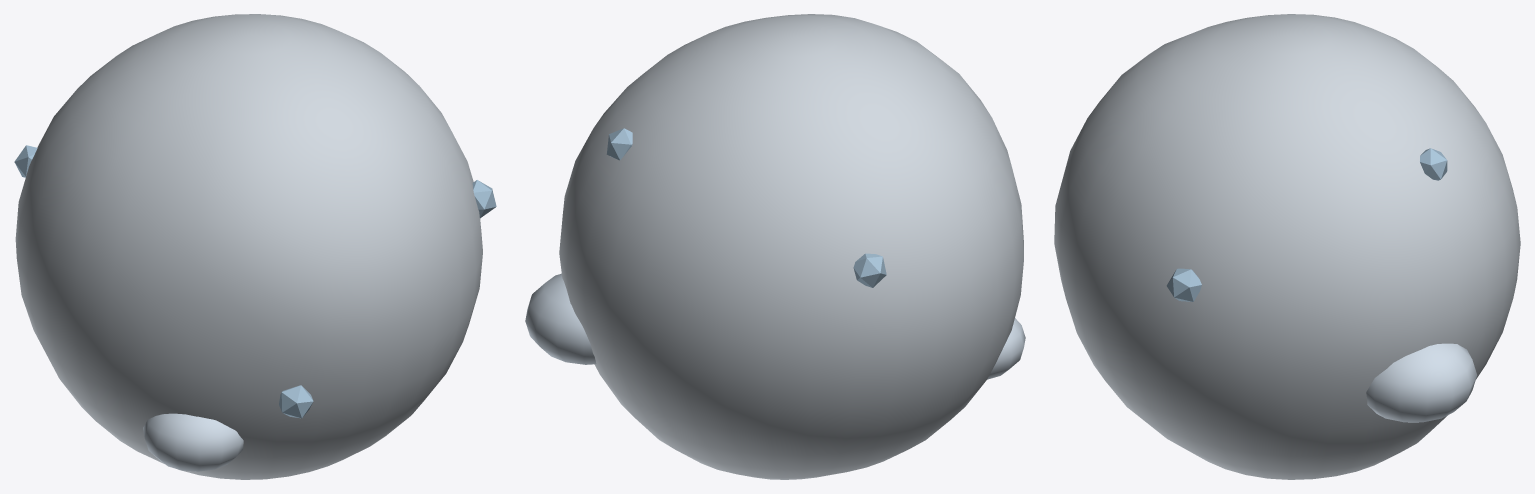
File: w_pj_snowball.glb
3 views of the same model, side by side, from view 1: azimuth 30°, elevation 25°; view 2: azimuth 150°, elevation 25°; view 3: azimuth 270°, elevation 25° (orthographic).
Visible parts, largest first — view 1: ball_wzA, clump_wzB, ice_wzN; view 2: ball_wzA, clump_wzB, ice_wzN; view 3: ball_wzA, clump_wzB, ice_wzN.
Boxes of the visible parts, x1=… form: ball_wzA: x1=15, y1=14, x2=482, y2=479; clump_wzB: x1=143, y1=413, x2=243, y2=471; ice_wzN: x1=14, y1=145, x2=496, y2=418; ball_wzA: x1=559, y1=14, x2=1023, y2=479; clump_wzB: x1=525, y1=273, x2=1025, y2=379; ice_wzN: x1=606, y1=128, x2=886, y2=287; ball_wzA: x1=1054, y1=14, x2=1520, y2=479; clump_wzB: x1=1366, y1=343, x2=1477, y2=422; ice_wzN: x1=1166, y1=148, x2=1447, y2=301.
Size of the model in its own units: 0.262 by 0.2632 by 0.2637.
